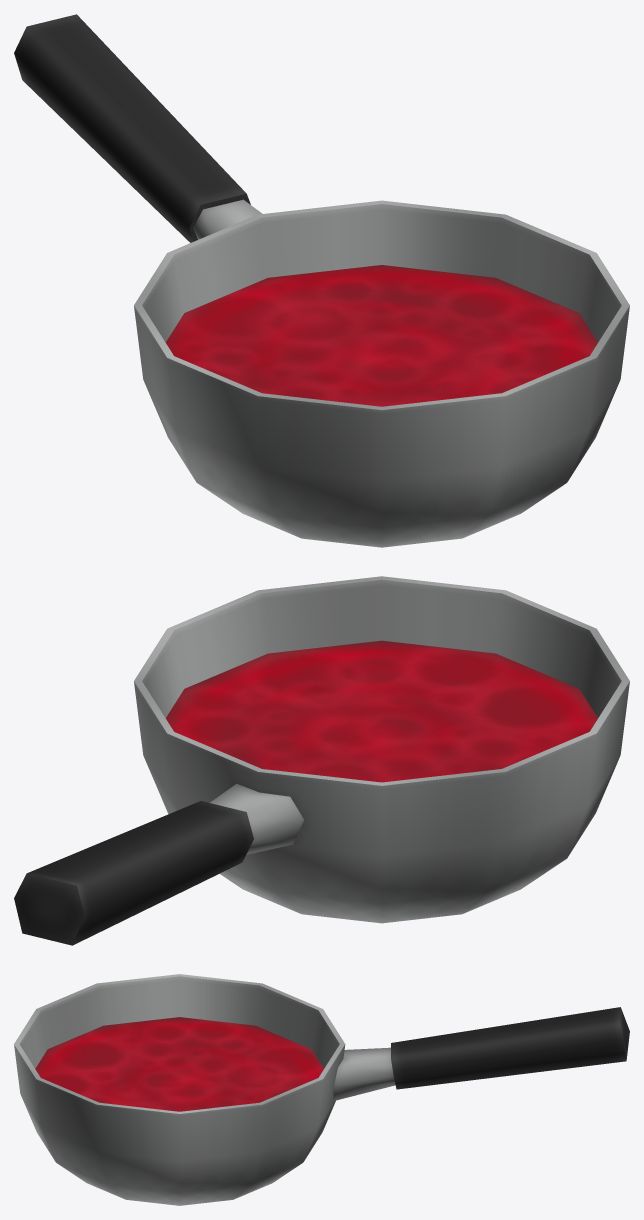
Rendered from jsf_Pot_04b.fbx.
The picture shows the model from 3 angles, top to bottom: view 1: azimuth 30°, elevation 25°; view 2: azimuth 150°, elevation 25°; view 3: azimuth 270°, elevation 25°; orthographic projection. The views are drawn at different scales.
Parts seen in each view (by area): view 1: jsf_Pot_04b; view 2: jsf_Pot_04b; view 3: jsf_Pot_04b.
Part boxes in pixels (x1,y1,x2,y2): jsf_Pot_04b: (14, 14, 629, 547); jsf_Pot_04b: (14, 576, 629, 945); jsf_Pot_04b: (14, 974, 629, 1205).
Size of the model in its own units: 19.1 by 9.25 by 35.5.
